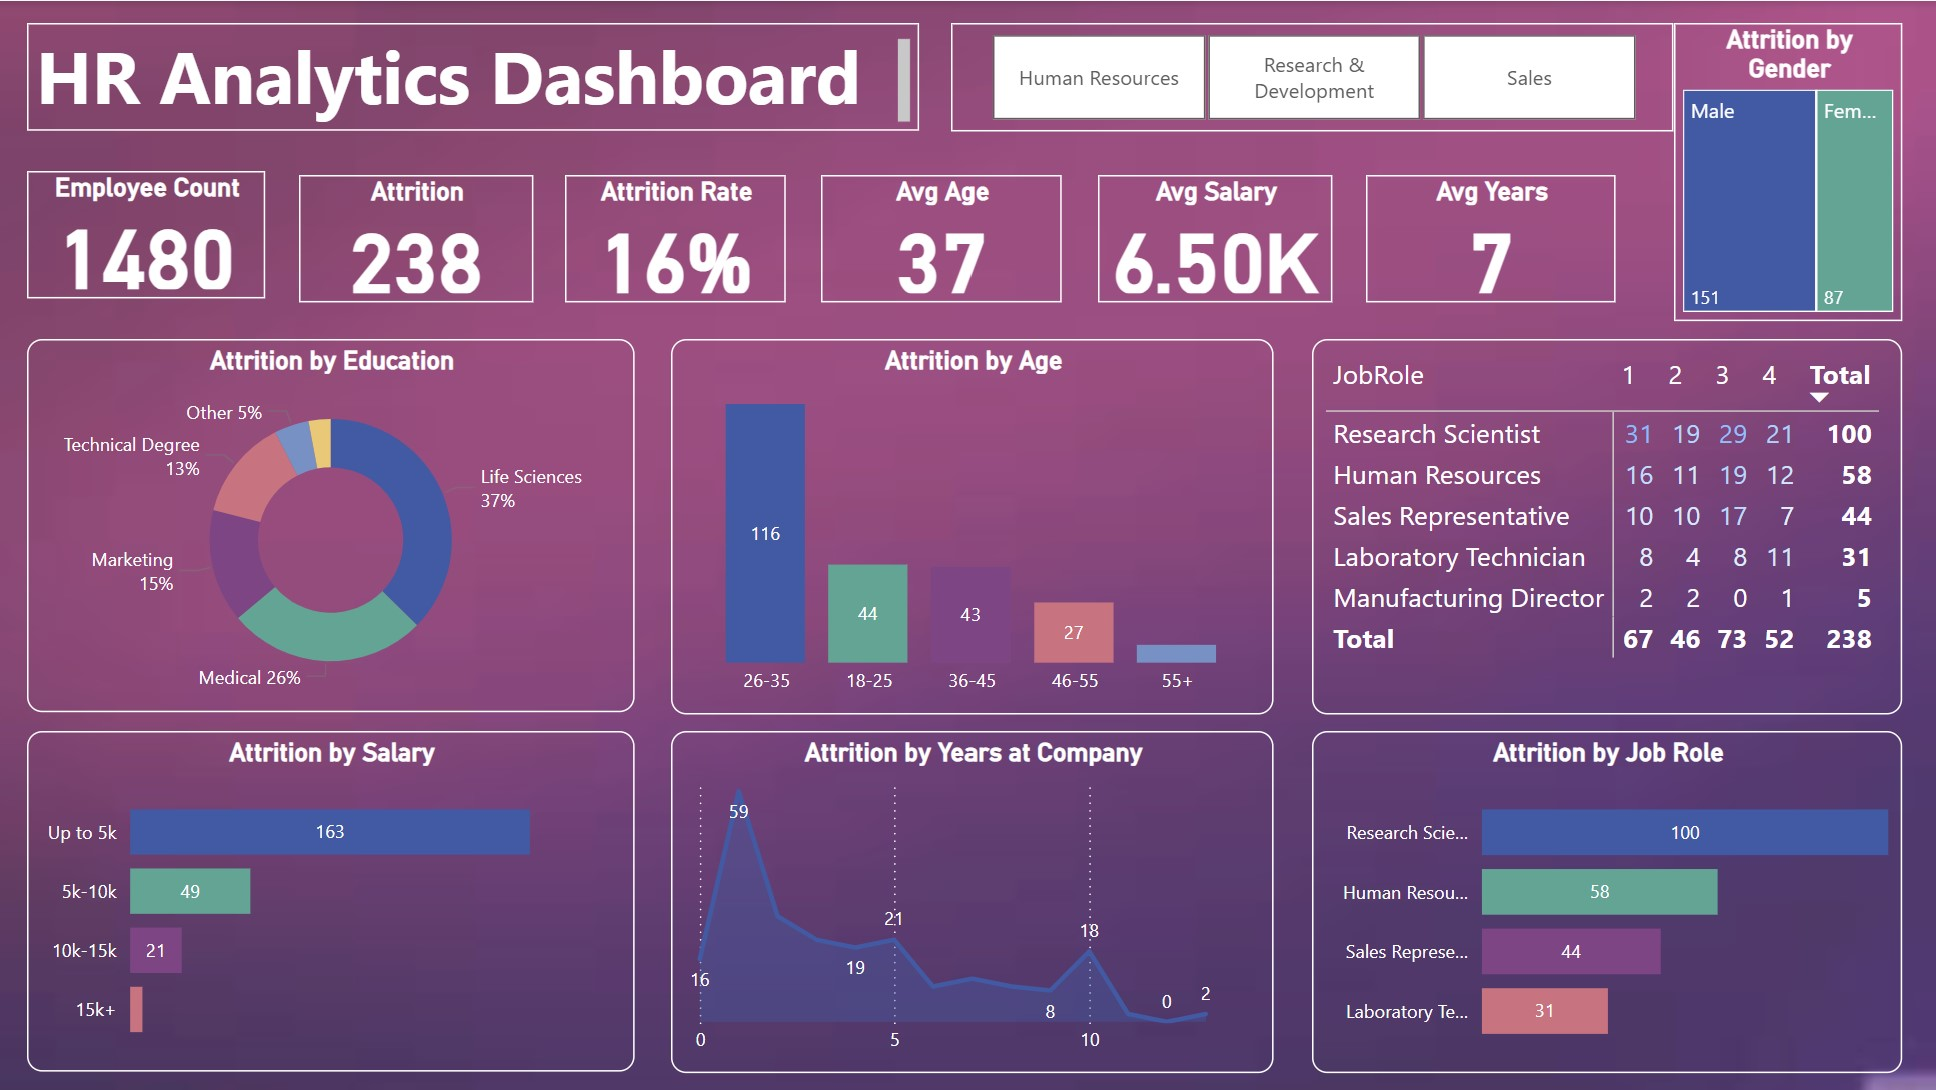

The page's visual inventory and layout, read from the dashboard file:
{"tool":"powerbi","page":{"name":"Page 1","canvas":[1280,720],"ordinal":0},"visuals":[{"type":"card","title":"Employee Count","fields":{"Values":["CountNonNull(HR_Data.EmpID)"]},"box":[21.7,112.2,156.8,84.1],"z":0},{"type":"card","title":"Attrition","fields":{"Values":["Sum(HR_Data.Attrition_Count)"]},"box":[200.2,114.7,154.3,84.1],"z":1000},{"type":"card","title":"Attrition Rate","fields":{"Values":["HR_Data.Attrition_Rate"]},"box":[376.1,114.7,145.3,84.1],"z":2000},{"type":"card","title":"Avg Age","fields":{"Values":["Avg(HR_Data.Age)"]},"box":[544.4,114.7,158.1,84.1],"z":3000},{"type":"card","title":"Avg Salary","fields":{"Values":["Avg(HR_Data.MonthlyIncome)"]},"box":[726.7,114.7,154.3,84.1],"z":4000},{"type":"card","title":"Avg Years","fields":{"Values":["Avg(HR_Data.YearsAtCompany)"]},"box":[902.6,114.7,164.5,84.1],"z":5000},{"type":"textbox","box":[21.7,14,578.8,70.1],"z":6000},{"type":"slicer","title":"Departments","fields":{"Values":["Departments.Department"]},"box":[629.8,14,475.5,71.4],"z":7000},{"type":"treemap","title":"Attrition by Gender","fields":{"Group":["HR_Data.Gender"],"Values":["Sum(HR_Data.Attrition_Count)"]},"box":[1105.3,14,150.4,196.3],"z":8000},{"type":"donutChart","title":"Attrition by Education","fields":{"Category":["Education.Education"],"Y":["Sum(HR_Data.Attrition_Count)"]},"box":[21.7,223.1,400.3,246.1],"z":9000},{"type":"barChart","title":"Attrition by Salary","fields":{"Category":["HR_Data.SalarySlab"],"Y":["Sum(HR_Data.Attrition_Count)"],"Series":["HR_Data.SalarySlab"]},"box":[21.7,480.6,400.3,224.4],"z":10000},{"type":"pivotTable","title":"Attrition by Education","fields":{"Values":["Sum(HR_Data.Attrition_Count)"],"Rows":["Jobs.JobRole"],"Columns":["HR_Data.JobSatisfaction"]},"box":[866.9,223.1,388.8,247.3],"z":11000},{"type":"areaChart","title":"Attrition by Years at Company","fields":{"Category":["HR_Data.YearsAtCompany"],"Y":["Sum(HR_Data.Attrition_Count)"]},"box":[444.9,480.6,396.5,225.7],"z":12000},{"type":"columnChart","title":"Attrition by Age","fields":{"Y":["Sum(HR_Data.Attrition_Count)"],"Category":["HR_Data.AgeGroup"],"Series":["HR_Data.AgeGroup"]},"box":[444.9,223.1,396.5,247.3],"z":13000},{"type":"barChart","title":"Attrition by Job Role","fields":{"Y":["Sum(HR_Data.Attrition_Count)"],"Category":["Jobs.JobRole"],"Series":["Jobs.JobRole"]},"box":[866.9,480.6,388.8,225.7],"z":14000}]}

Visuals, with their boxes in screenshot pixels (x1, y1, x2, y2), scaled from the page's 1280x720 canvas onto the 1936x1090 screenshot:
"Employee Count" card: [33,170,270,297]
"Attrition" card: [303,174,536,301]
"Attrition Rate" card: [569,174,789,301]
"Avg Age" card: [823,174,1063,301]
"Avg Salary" card: [1099,174,1333,301]
"Avg Years" card: [1365,174,1614,301]
textbox: [33,21,908,127]
"Departments" slicer: [953,21,1672,129]
"Attrition by Gender" treemap: [1672,21,1899,318]
"Attrition by Education" donutChart: [33,338,638,710]
"Attrition by Salary" barChart: [33,728,638,1067]
"Attrition by Education" pivotTable: [1311,338,1899,712]
"Attrition by Years at Company" areaChart: [673,728,1273,1069]
"Attrition by Age" columnChart: [673,338,1273,712]
"Attrition by Job Role" barChart: [1311,728,1899,1069]
